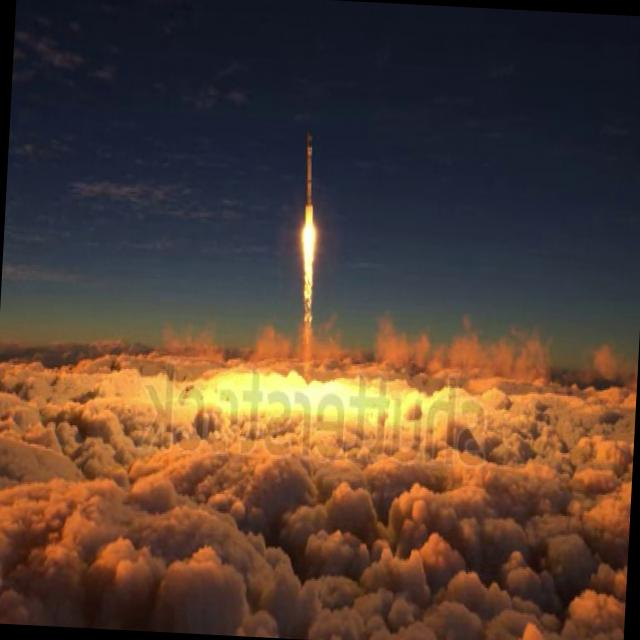rocket: (291, 131, 327, 358)
